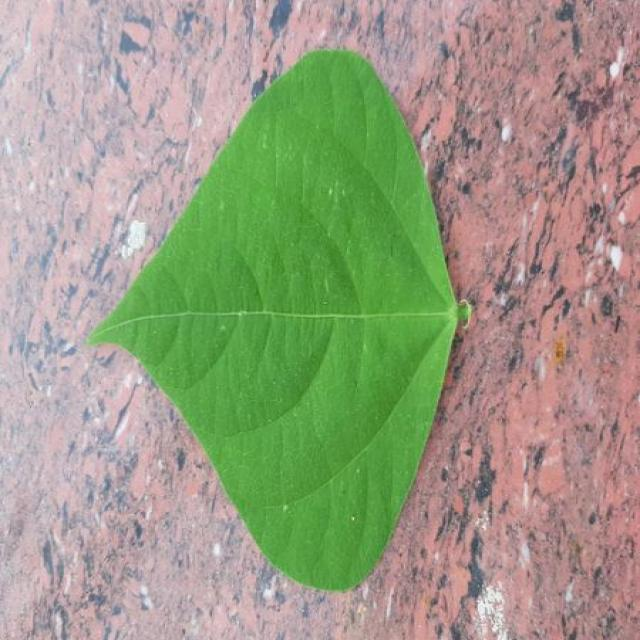beans: (90, 50, 470, 590)
